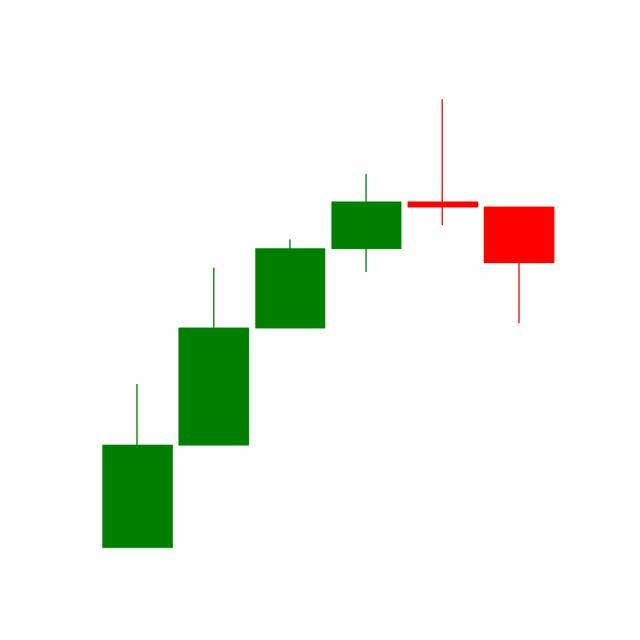Spinning Top: (404, 98, 482, 228)
